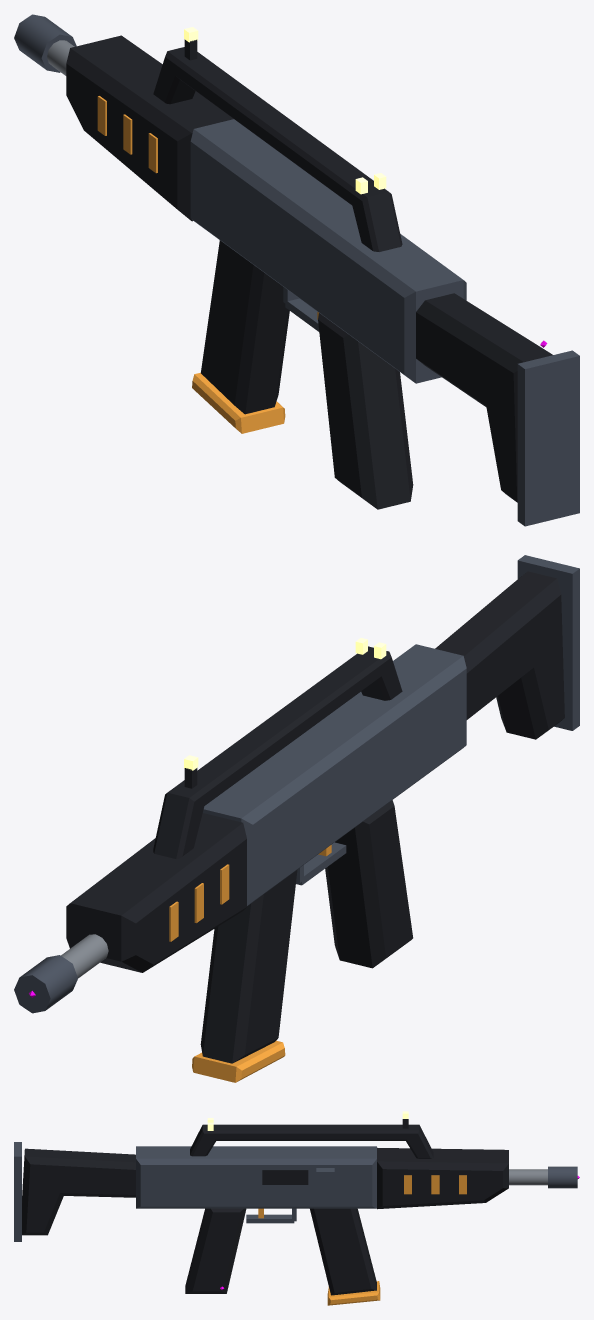
Rendered from Rifle.glb.
3 renders of one model, top to bottom at view 1: azimuth 30°, elevation 25°; view 2: azimuth 150°, elevation 25°; view 3: azimuth 270°, elevation 25°, orthographic. The views are drawn at different scales.
Parts seen in each view (by area): view 1: Dark, Steel, Accent; view 2: Dark, Steel, Accent, Bare; view 3: Dark, Steel, Accent, Bare.
Boxes of the visible parts, x1,y1,x2,y2 form: Dark: (66, 35, 552, 509); Steel: (14, 14, 579, 526); Accent: (97, 96, 318, 433); Dark: (66, 571, 564, 1063); Steel: (14, 555, 579, 1013); Accent: (169, 845, 331, 1082); Bare: (61, 934, 108, 978); Dark: (22, 1119, 508, 1295); Steel: (14, 1142, 577, 1241); Accent: (258, 1175, 466, 1305); Bare: (509, 1169, 547, 1185).
Bounding box in the file's own units: 1.22 × 1.81 × 4.93.
